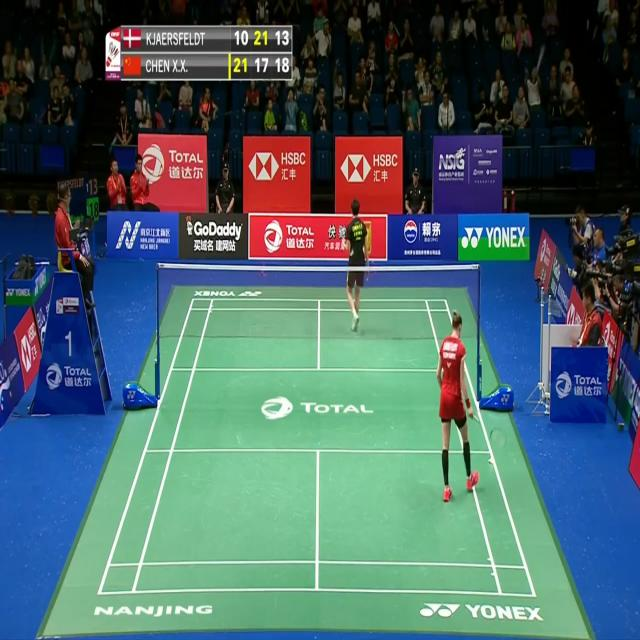Player1: (433, 306, 481, 508)
Player2: (341, 200, 373, 337)
